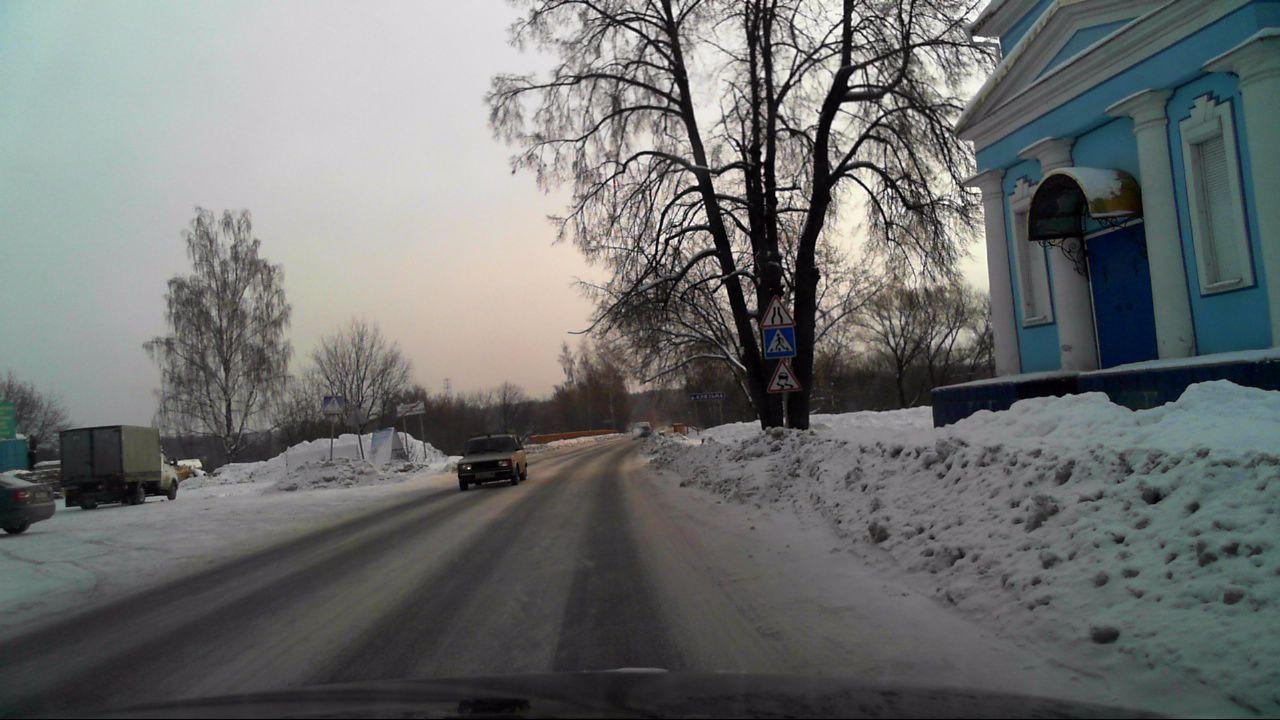1_15: (768, 360, 800, 393)
1_20_1: (757, 294, 796, 327)
5_19_1: (763, 326, 797, 359)
5_19_2: (323, 395, 343, 414)
5_24_1: (395, 401, 425, 416)
6_11: (687, 393, 727, 401)
